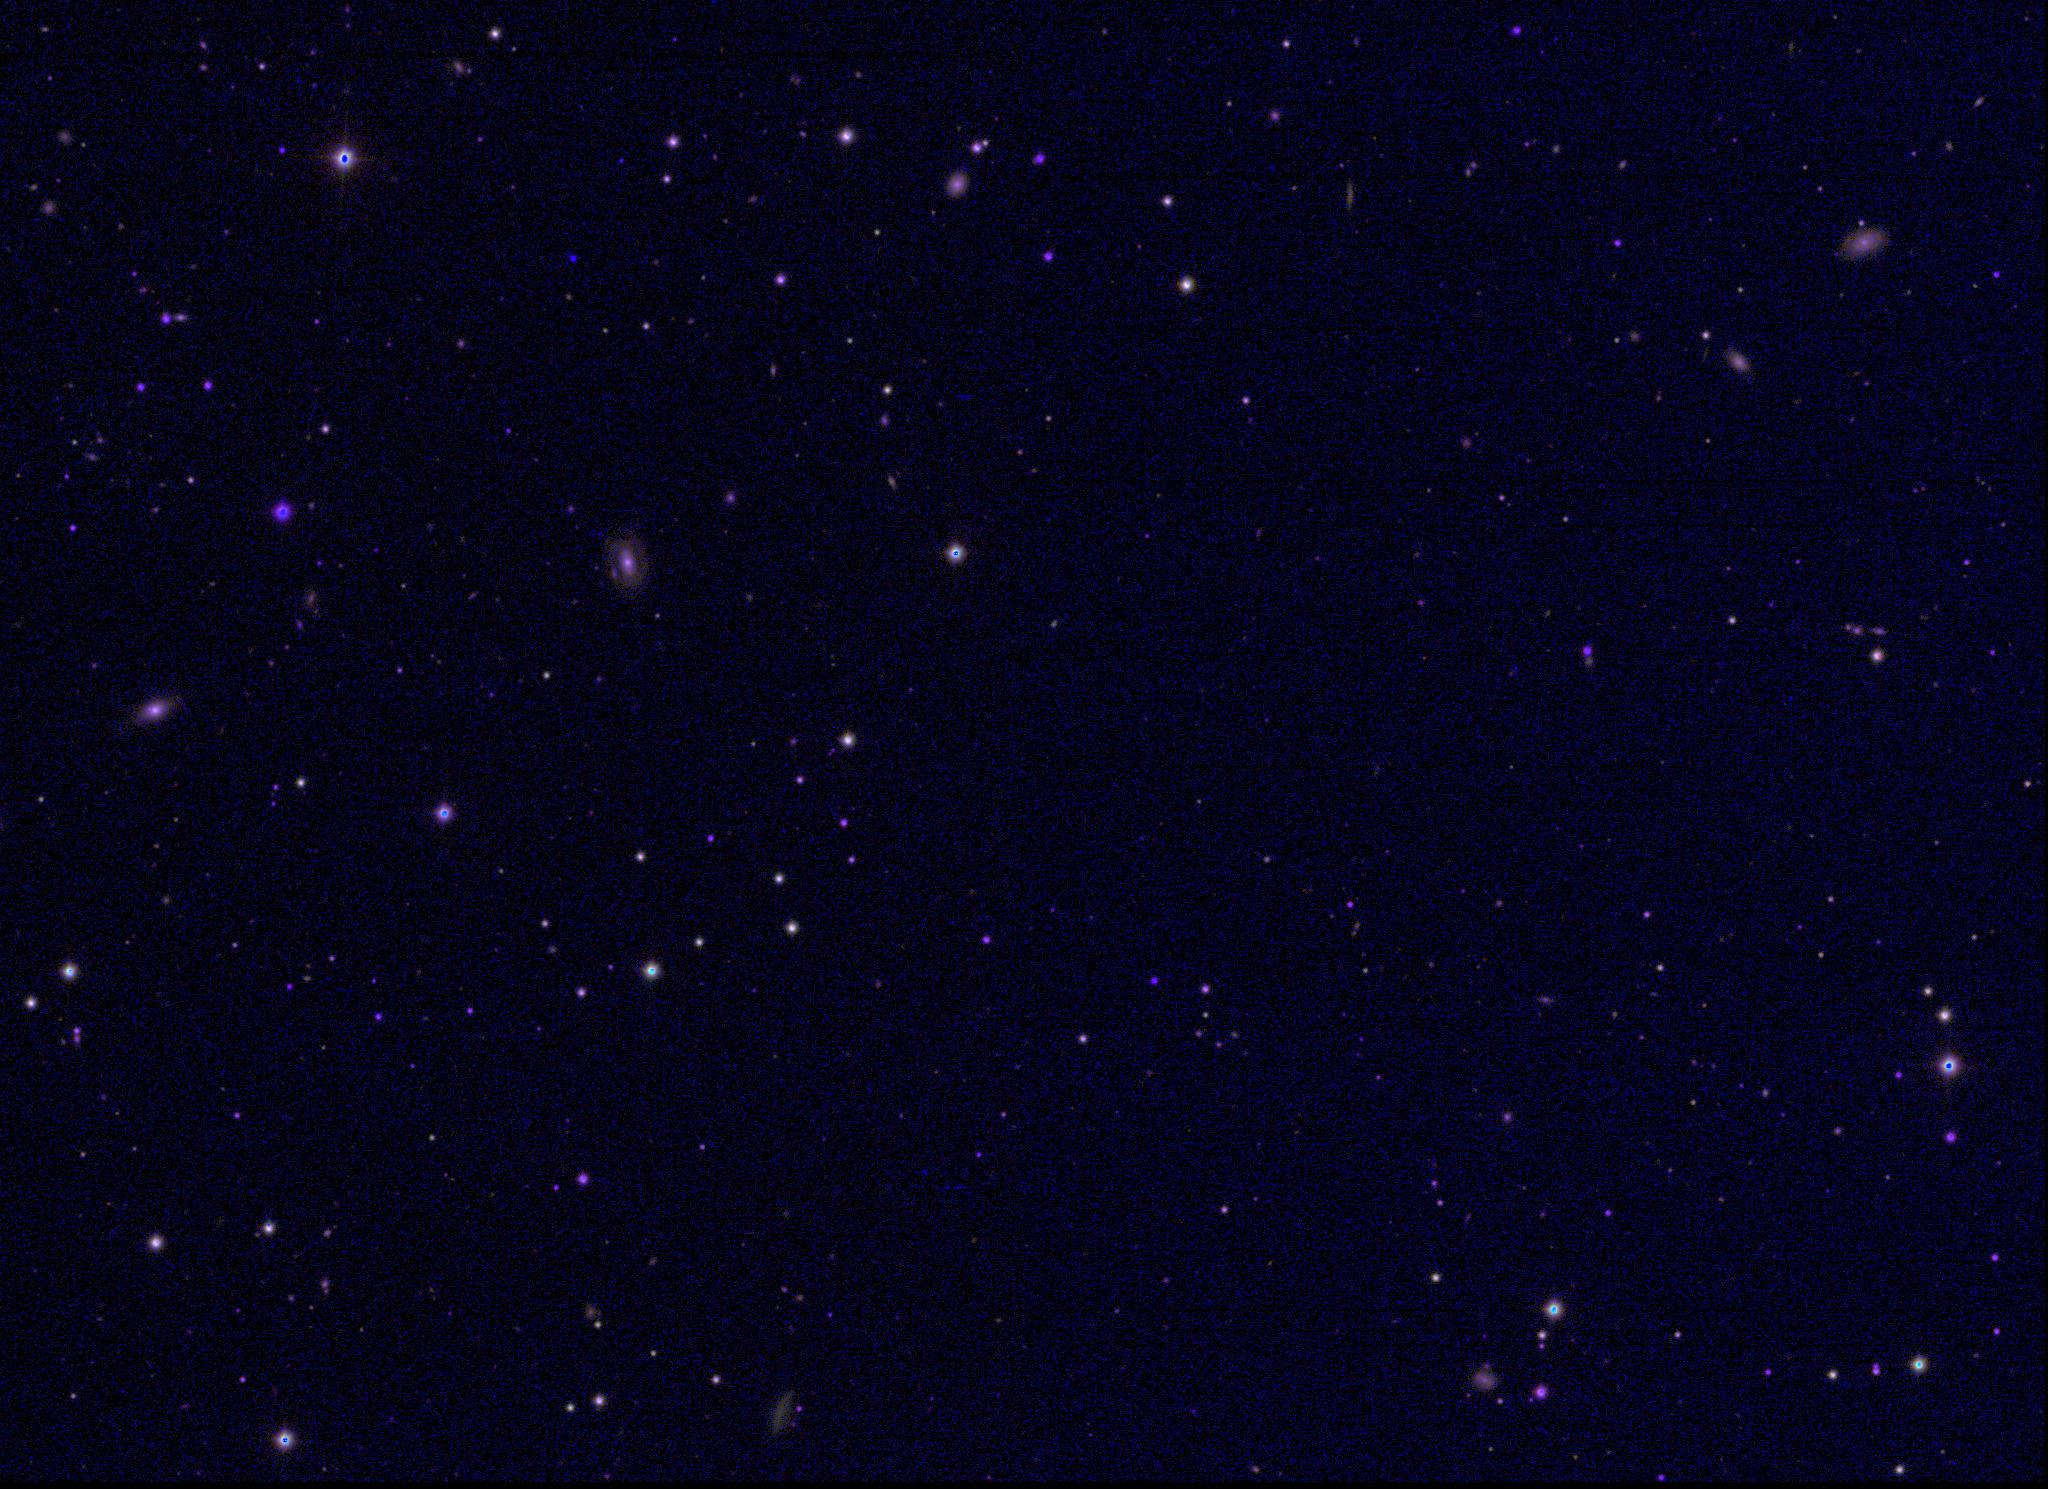L: (566, 250, 580, 264)
